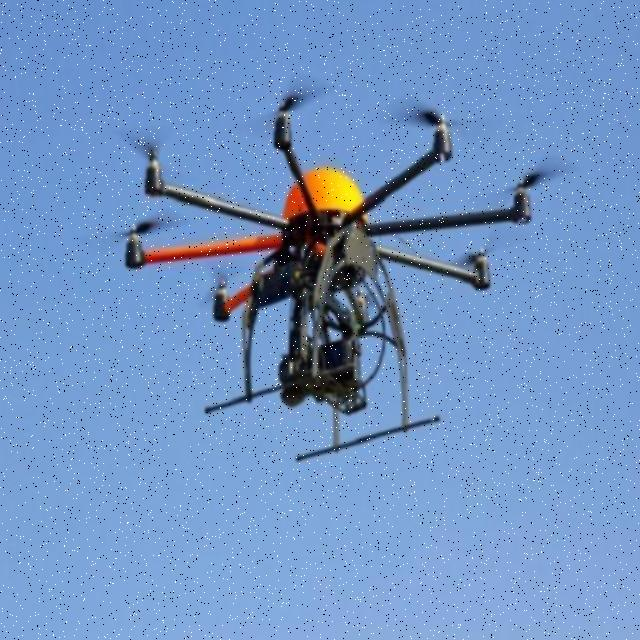UAV: (122, 97, 537, 466)
